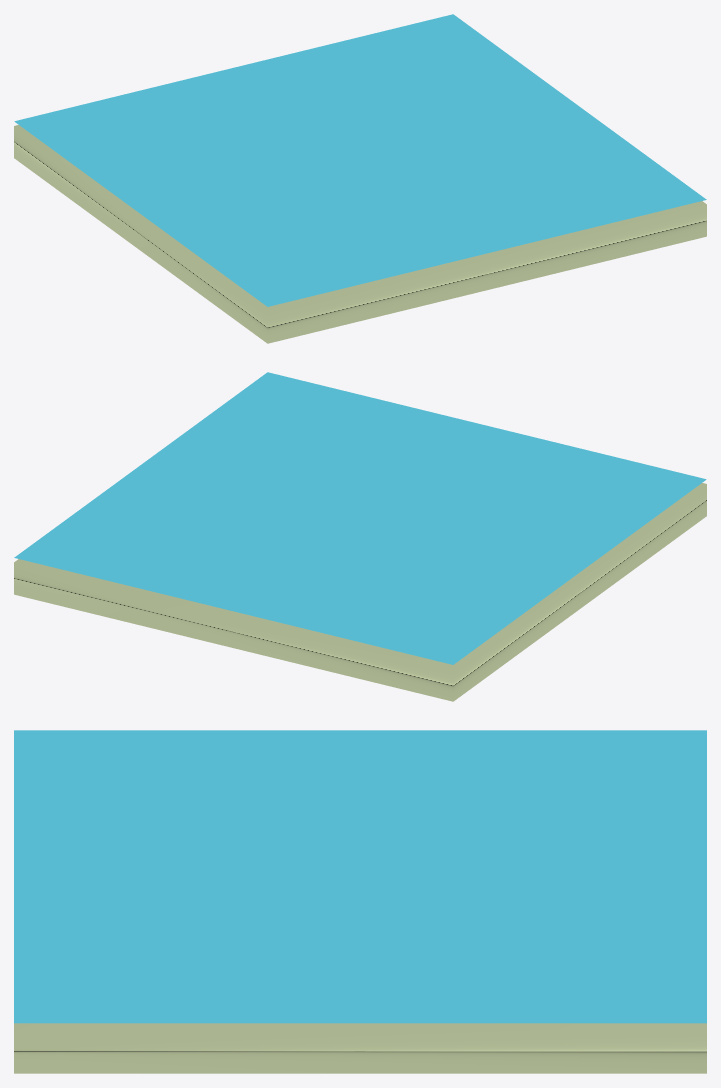
File: water_shallow.glb
3 renders of one model, top to bottom at view 1: azimuth 30°, elevation 25°; view 2: azimuth 150°, elevation 25°; view 3: azimuth 270°, elevation 25°, orthographic. The views are drawn at different scales.
Visible parts, largest first — view 1: Water.001; view 2: Water.001; view 3: Water.001.
Boxes of the visible parts, x1,y1,x2,y2 form: Water.001: [14, 14, 706, 343]; Water.001: [14, 372, 706, 701]; Water.001: [14, 730, 706, 1073].
Bounding box in the file's own units: 1 × 0.08 × 1.
